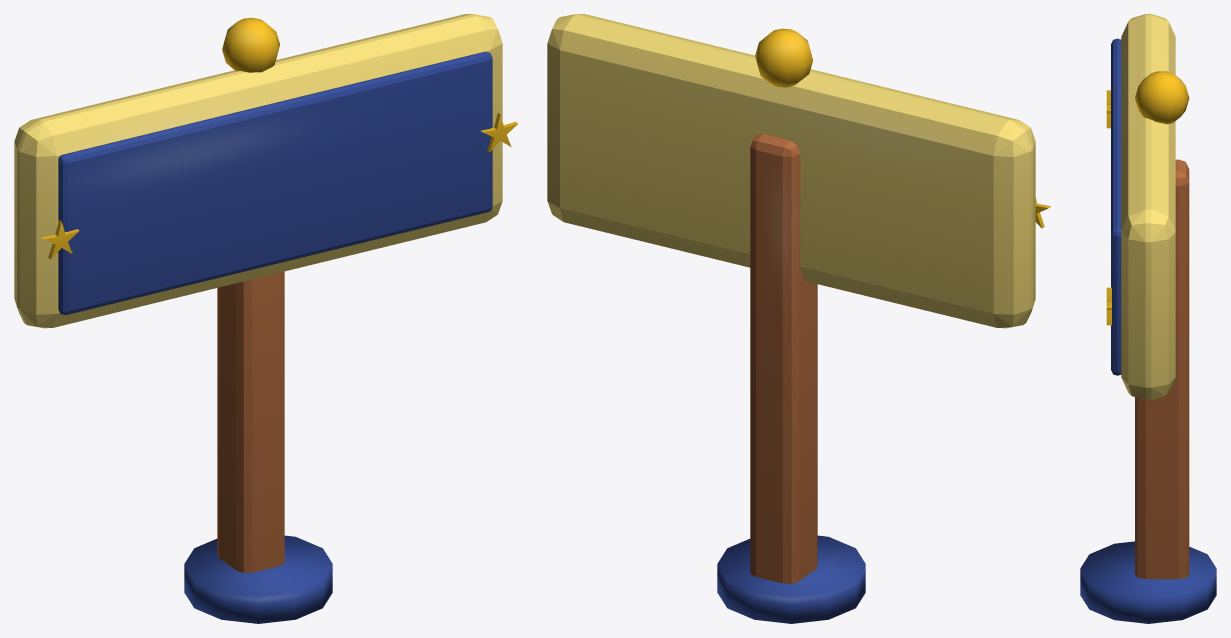
Rendered from PlotSignPost.fbx.
3 renders of one model, left to right at view 1: azimuth 30°, elevation 25°; view 2: azimuth 150°, elevation 25°; view 3: azimuth 270°, elevation 25°, orthographic. The views are drawn at different scales.
Visible parts, largest first — view 1: PlotSignPost; view 2: PlotSignPost; view 3: PlotSignPost.
Part boxes in pixels (x1,y1,x2,y2): PlotSignPost: [14, 14, 518, 623]; PlotSignPost: [547, 14, 1050, 623]; PlotSignPost: [1080, 14, 1216, 623].
Size of the model in its own units: 5.6 by 6.32 by 1.5.
1 material, 1 textured.
